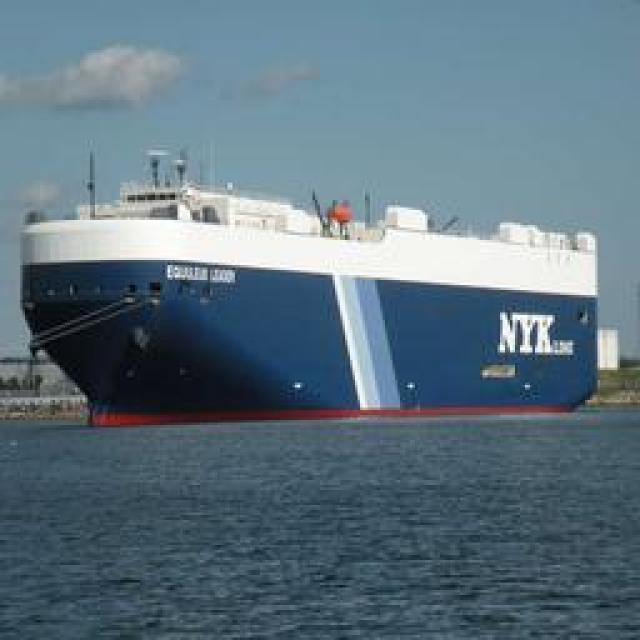ship2: (21, 146, 600, 426)
